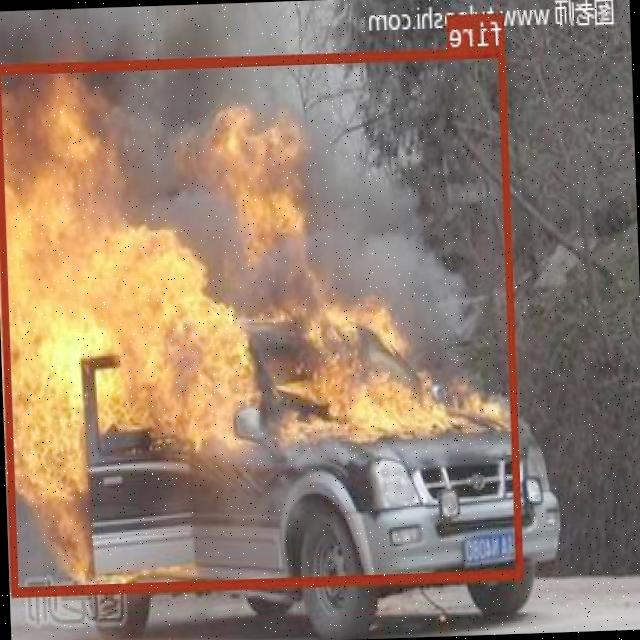fire: (0, 44, 523, 595)
